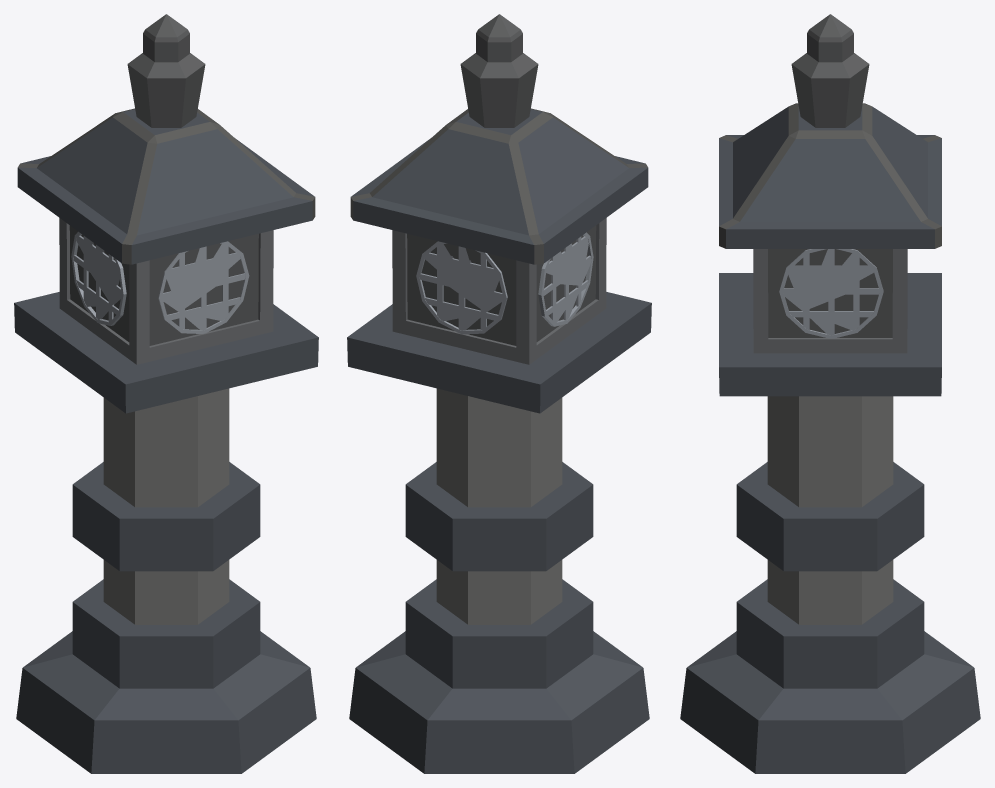
The model's file is Statue_5.fbx.
3 renders of one model, left to right at view 1: azimuth 30°, elevation 25°; view 2: azimuth 150°, elevation 25°; view 3: azimuth 270°, elevation 25°, orthographic.
Parts seen in each view (by area): view 1: Statue_5; view 2: Statue_5; view 3: Statue_5.
Boxes of the visible parts, bbox=[...] form: Statue_5: bbox=[14, 14, 318, 773]; Statue_5: bbox=[347, 14, 651, 773]; Statue_5: bbox=[680, 14, 980, 773].
Size of the model in its own units: 52.97 by 158 by 61.16.
